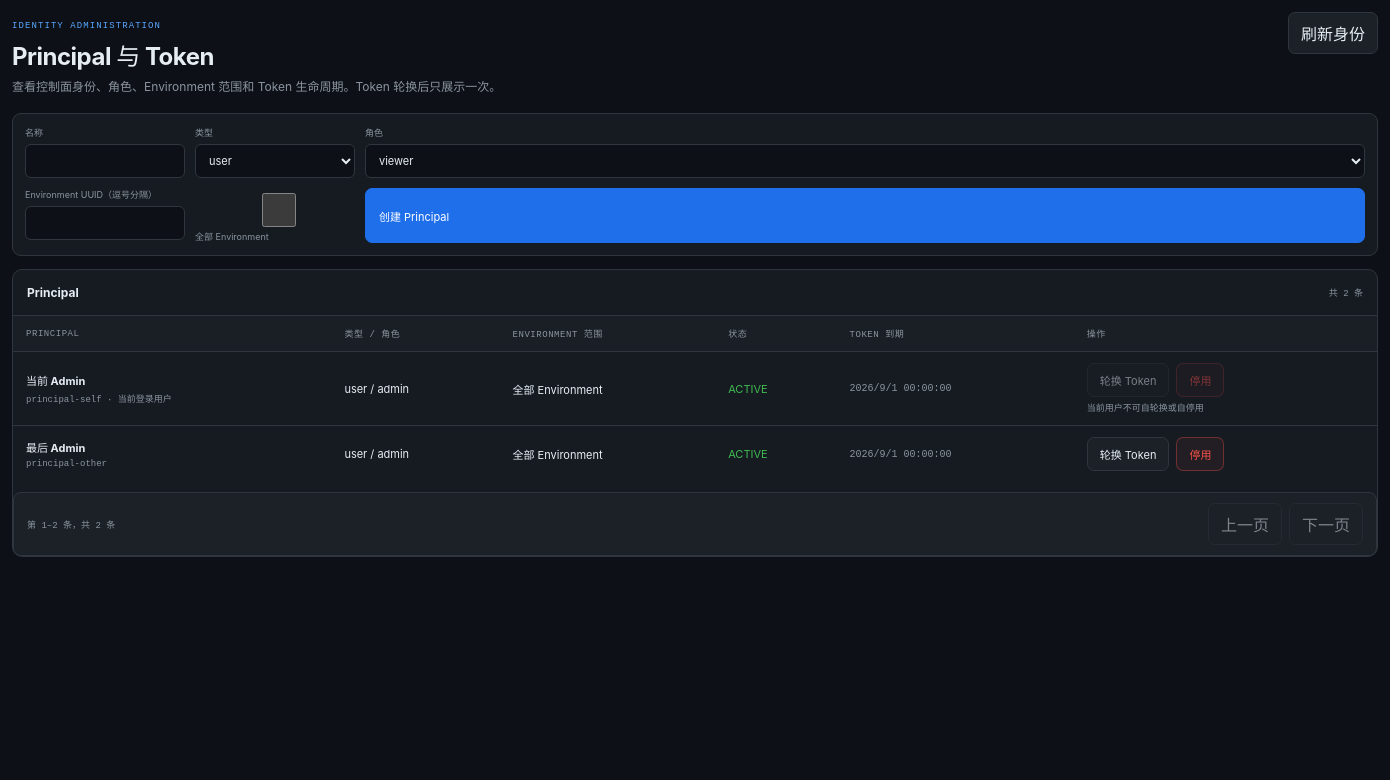
Test: Identity Admin safety › shows backend Admin safety conflicts and refreshes the Principal snapshot
The image size is (1390, 780).
Click the button "停用" in the row of "最后 Admin": [1200, 454] box [1176,437,1224,471]
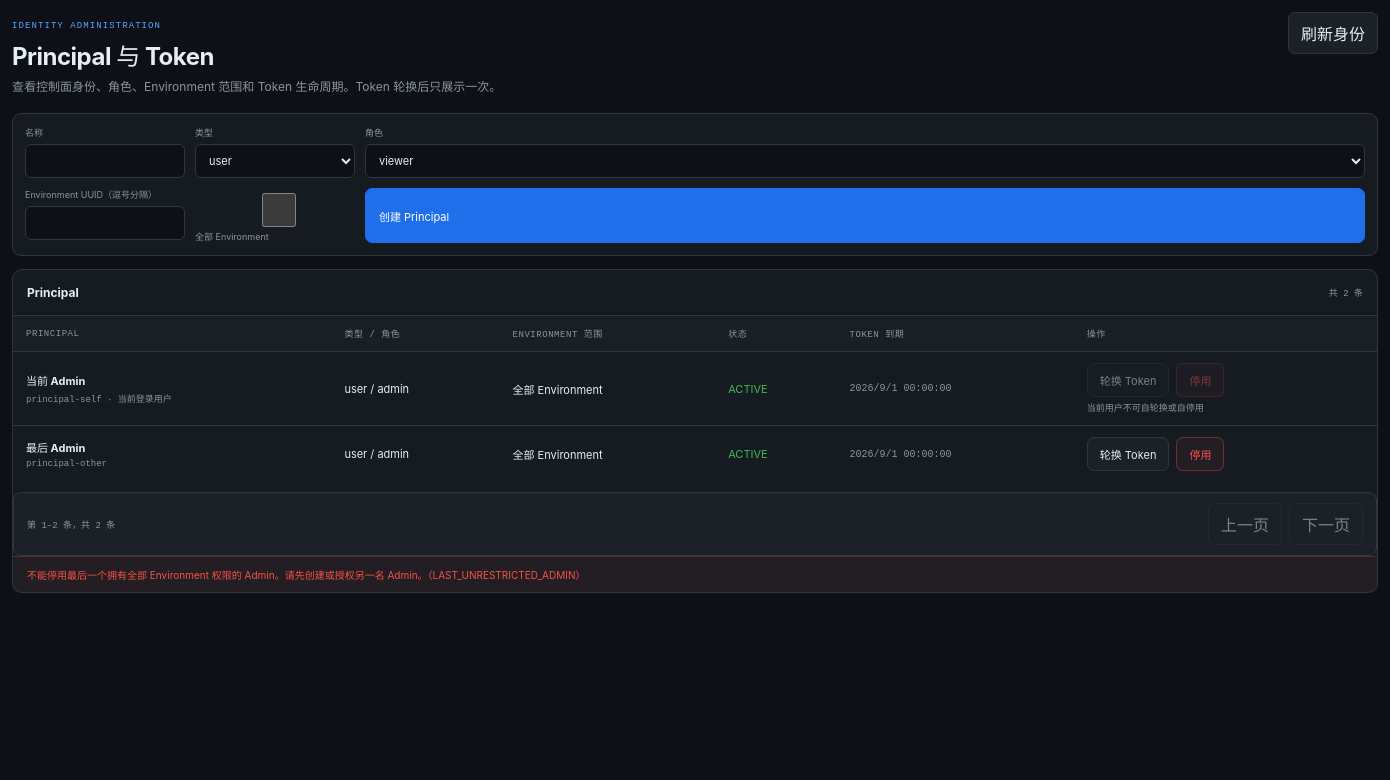
Now the message shows "不能停用最后一个拥有全部 Environment 权限的 Admin", box [27,569,585,581]
